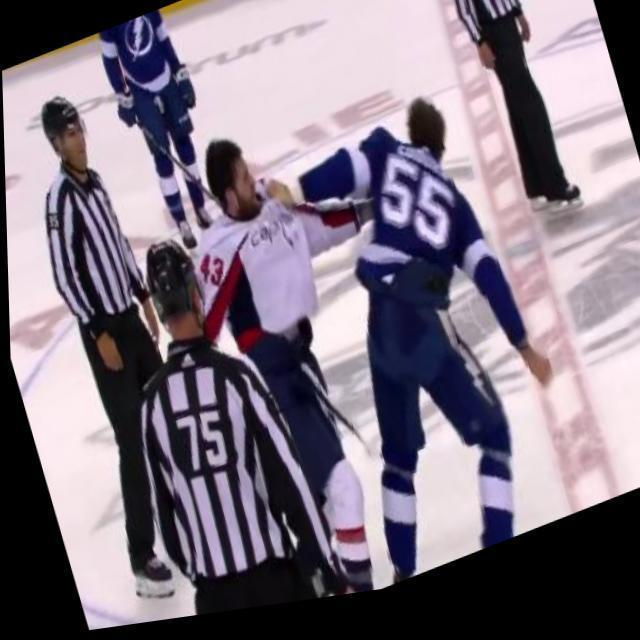fight: (157, 43, 588, 623)
